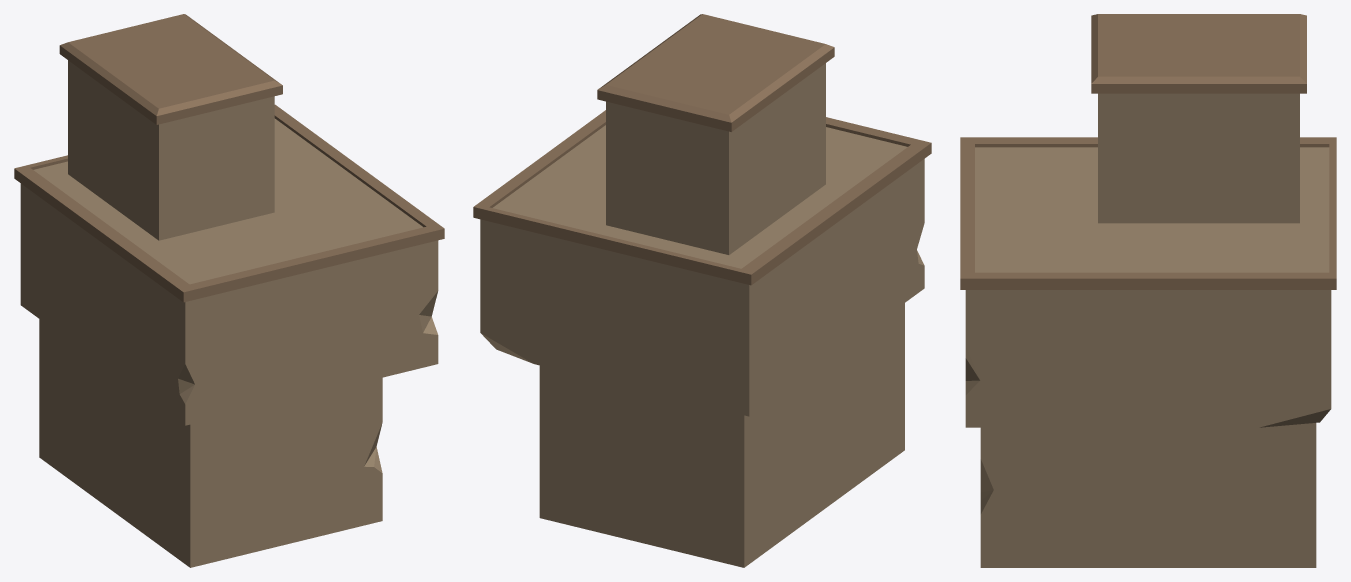
The model's file is LP_PostApoc_BuildingPreset2.fbx.
3 renders of one model, left to right at view 1: azimuth 30°, elevation 25°; view 2: azimuth 150°, elevation 25°; view 3: azimuth 270°, elevation 25°, orthographic. The views are drawn at different scales.
Visible parts, largest first — view 1: BuildingPreset2; view 2: BuildingPreset2; view 3: BuildingPreset2.
Part boxes in pixels (x1,y1,x2,y2): BuildingPreset2: [14, 14, 444, 567]; BuildingPreset2: [473, 14, 931, 567]; BuildingPreset2: [960, 14, 1336, 567].
Bounding box in the file's own units: 546 × 830 × 614.
